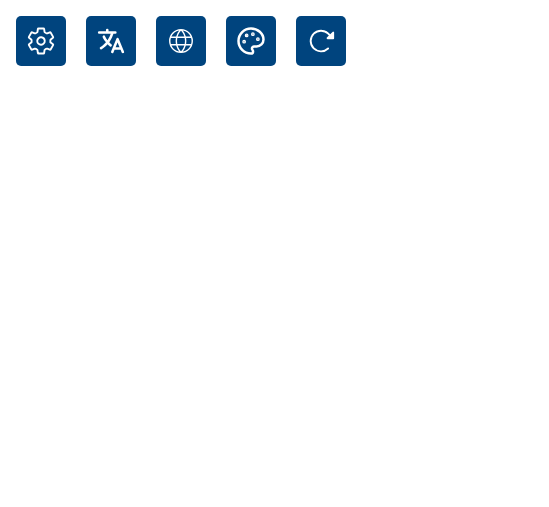
Test case: Style Customization Dropdown › updates item_layer fill opacity when slider changes
Click the button with test id "style-dropdown-button" at point(251, 41), box left=226, top=16, right=276, bottom=66
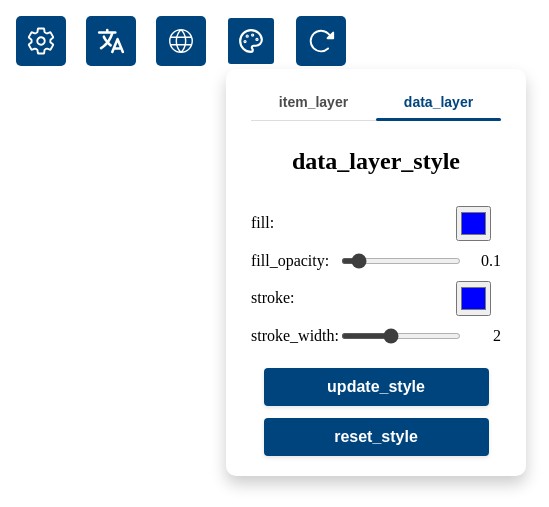
Set the slider next to "fill_opacity" to "0.5" at point(401, 261), box left=341, top=258, right=461, bottom=264
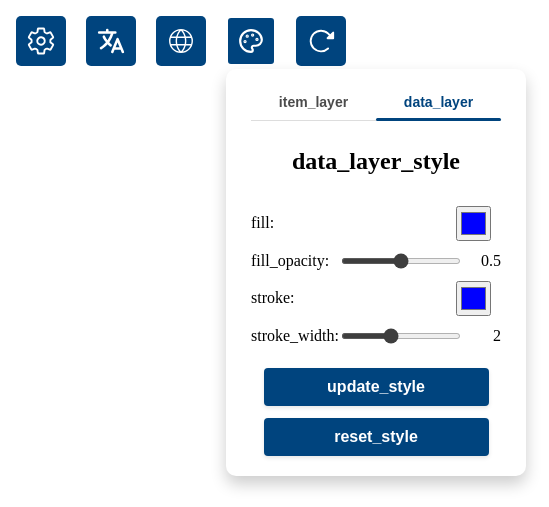
Check: the text "0.5" is shown, box left=481, top=252, right=501, bottom=269
